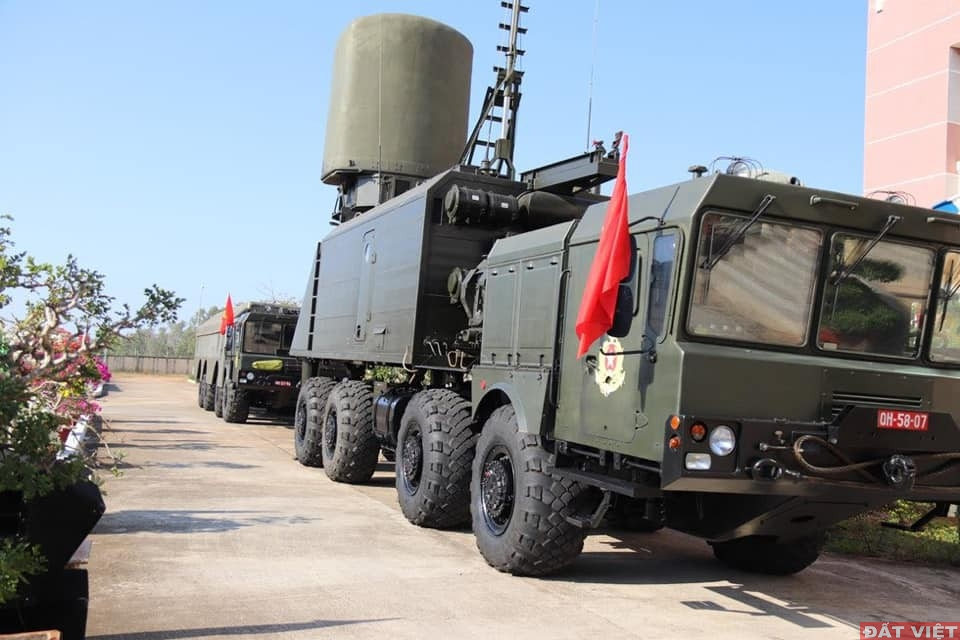plate: (873, 406, 929, 434)
